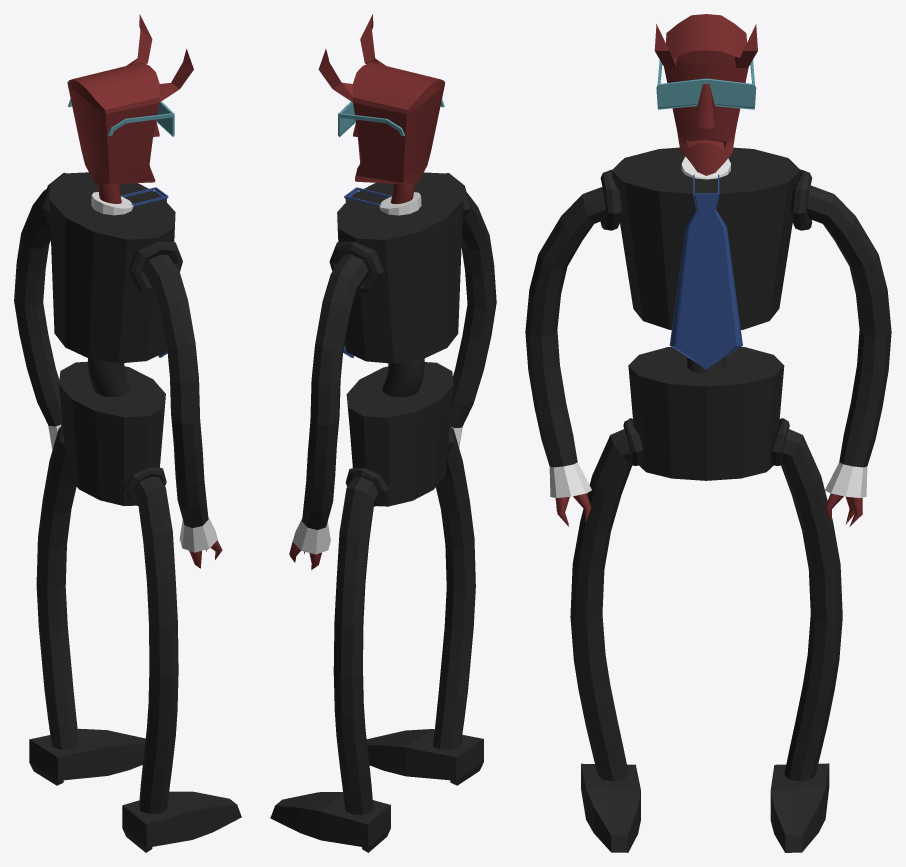
Rendered from Devil.fbx.
3 renders of one model, left to right at view 1: azimuth 30°, elevation 25°; view 2: azimuth 150°, elevation 25°; view 3: azimuth 270°, elevation 25°, orthographic. The views are drawn at different scales.
Visible parts, largest first — view 1: pCylinder6, pCylinder5, pCylinder8, pCube3, pCylinder7, pCylinder13, pCylinder12, pCylinder14, pCylinder11, pCylinder4, pTorus1, pCube6 (+1 smaller); view 2: pCylinder6, pCylinder5, pCylinder13, pCube3, pCylinder12, pCylinder8, pCylinder7, pCylinder11, pCylinder14, pCylinder4, pTorus3, pCube6 (+1 smaller); view 3: pCylinder6, pCylinder5, pCylinder13, pCylinder8, pCylinder12, pCylinder7, pCube3, pCube1, pCylinder11, pCylinder14, pCube6, pTorus3 (+1 smaller).
Boxes of the visible parts, x1,y1,x2,y2 form: pCylinder6: [49, 172, 175, 363]; pCylinder5: [59, 361, 165, 505]; pCylinder8: [134, 476, 178, 813]; pCube3: [67, 14, 193, 184]; pCylinder7: [143, 255, 217, 552]; pCylinder13: [36, 427, 79, 749]; pCylinder12: [14, 188, 62, 449]; pCylinder14: [29, 728, 145, 785]; pCylinder11: [122, 791, 241, 852]; pCylinder4: [88, 358, 130, 396]; pTorus1: [128, 241, 182, 295]; pCube6: [68, 99, 174, 137]; pCylinder6: [337, 172, 463, 363]; pCylinder5: [346, 362, 453, 506]; pCylinder13: [333, 477, 378, 814]; pCube3: [318, 14, 445, 184]; pCylinder12: [292, 254, 368, 554]; pCylinder8: [433, 428, 475, 750]; pCylinder7: [450, 193, 496, 447]; pCylinder11: [366, 729, 483, 785]; pCylinder14: [270, 792, 390, 852]; pCylinder4: [382, 358, 424, 397]; pTorus3: [329, 241, 383, 295]; pCube6: [338, 99, 444, 137]; pCylinder6: [611, 147, 800, 329]; pCylinder5: [628, 347, 784, 480]; pCylinder13: [781, 429, 842, 781]; pCylinder8: [570, 429, 631, 781]; pCylinder12: [807, 185, 891, 497]; pCylinder7: [525, 187, 605, 497]; pCube3: [654, 14, 757, 175]; pCube1: [669, 196, 742, 369]; pCylinder11: [581, 763, 640, 852]; pCylinder14: [770, 763, 829, 852]; pCube6: [656, 60, 756, 109]; pTorus3: [790, 169, 812, 230].
Bounding box in the file's own units: 3.09 × 16.94 × 6.92.
